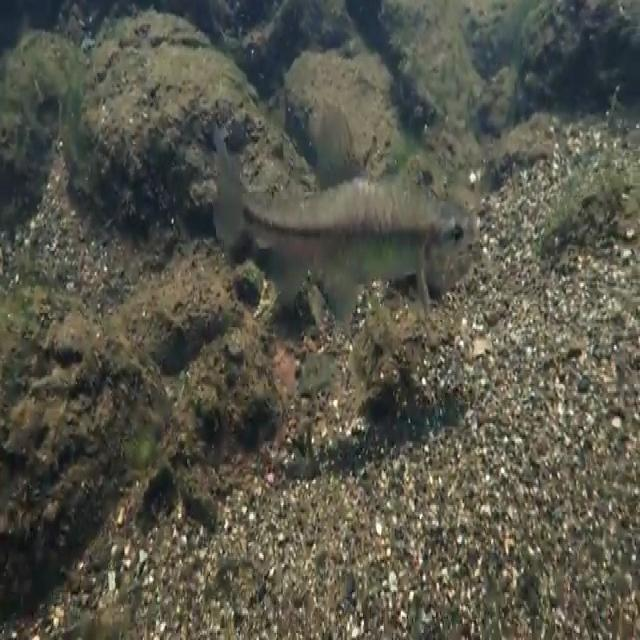Cakil Baligi: (215, 115, 480, 330)
